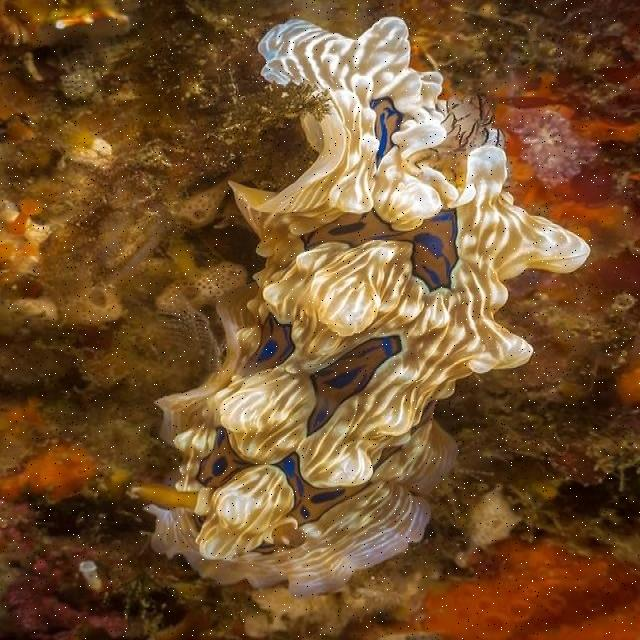reefs: (126, 16, 587, 601)
